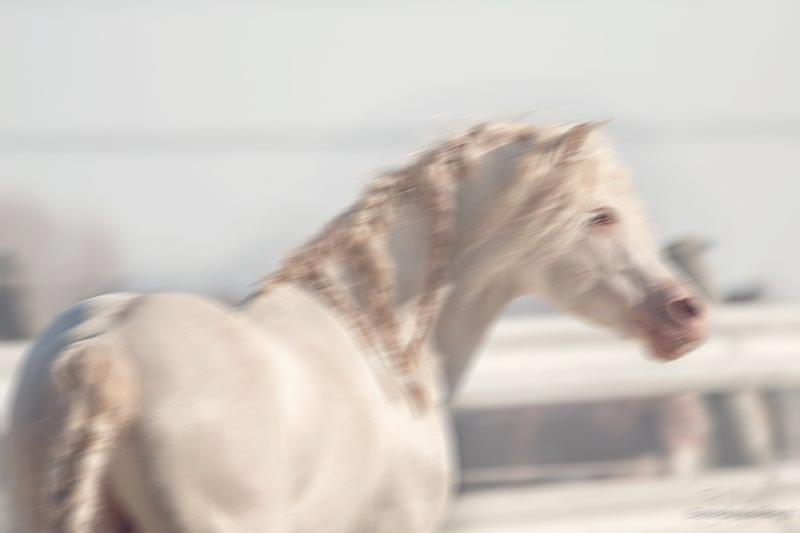horse: (0, 110, 712, 531)
